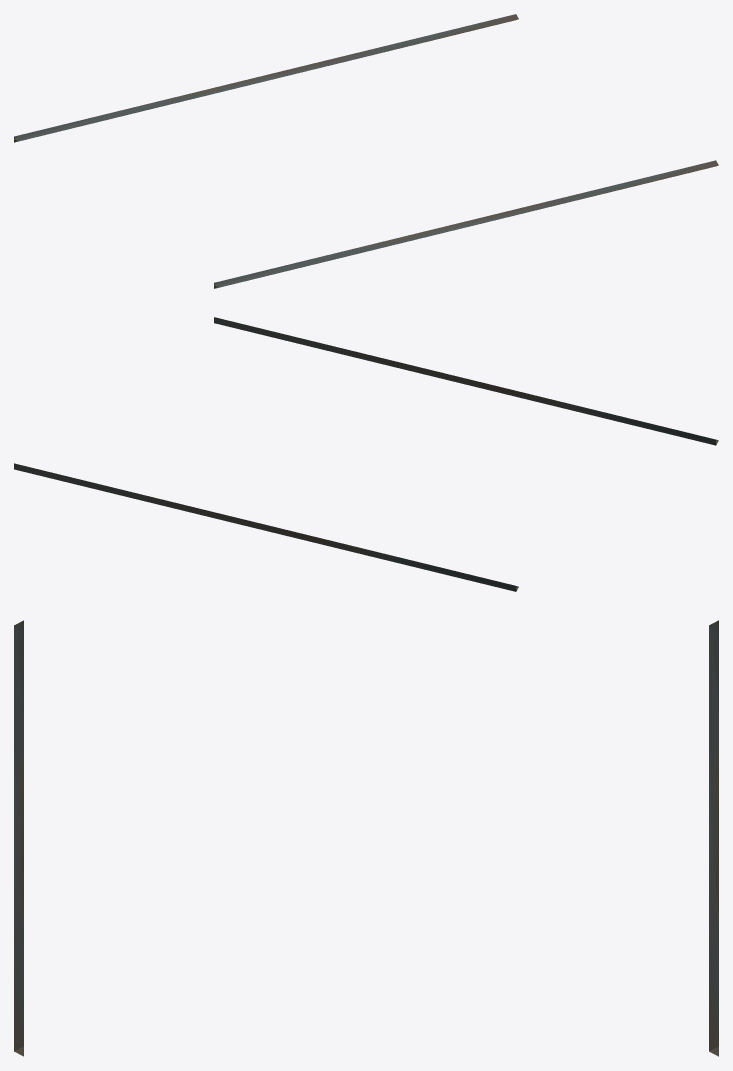
File: Kran_LagerhalleSchienen_1011.glb
3 views of the same model, one above another, from view 1: azimuth 30°, elevation 25°; view 2: azimuth 150°, elevation 25°; view 3: azimuth 270°, elevation 25° (orthographic). The views are drawn at different scales.
Parts seen in each view (by area): view 1: pCylinderShape2, pCylinderShape3; view 2: pCylinderShape2, pCylinderShape3; view 3: pCylinderShape3, pCylinderShape2.
Part boxes in pixels (x1,y1,x2,y2): pCylinderShape2: (214,160,718,288); pCylinderShape3: (14,14,518,142); pCylinderShape2: (214,317,718,445); pCylinderShape3: (14,463,518,591); pCylinderShape3: (709,620,718,1056); pCylinderShape2: (14,620,23,1056).
Size of the model in its own units: 3.49 by 0.0405 by 2.44.
Materials: 2 (2 with a texture image).
